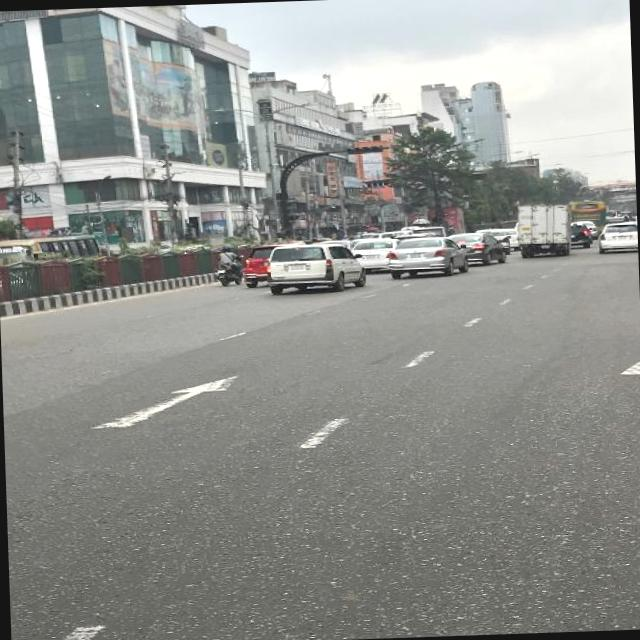bus: (0, 233, 106, 261), (572, 199, 606, 230)
car: (262, 241, 368, 295), (388, 234, 471, 280), (244, 240, 304, 286), (449, 230, 510, 266), (352, 235, 401, 272), (597, 221, 638, 254), (478, 228, 512, 255), (572, 220, 594, 250)
motorcycle: (216, 242, 245, 286)
truck: (518, 201, 574, 259)
